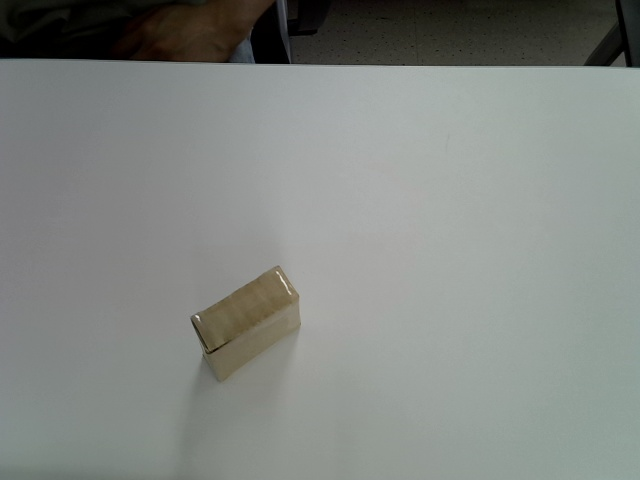normal: (190, 264, 301, 382)
